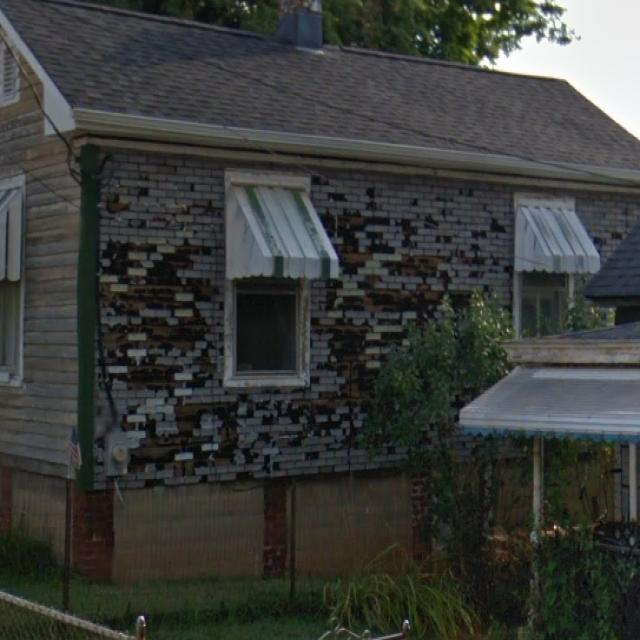House: (0, 0, 640, 582), (458, 222, 639, 640)
